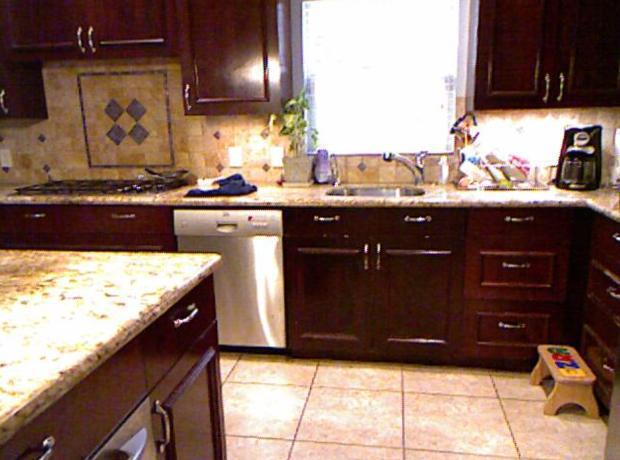Lavaplatos: (314, 144, 434, 204)
